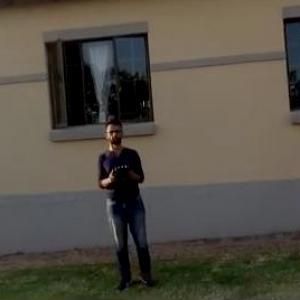follow: (95, 114, 161, 293)
